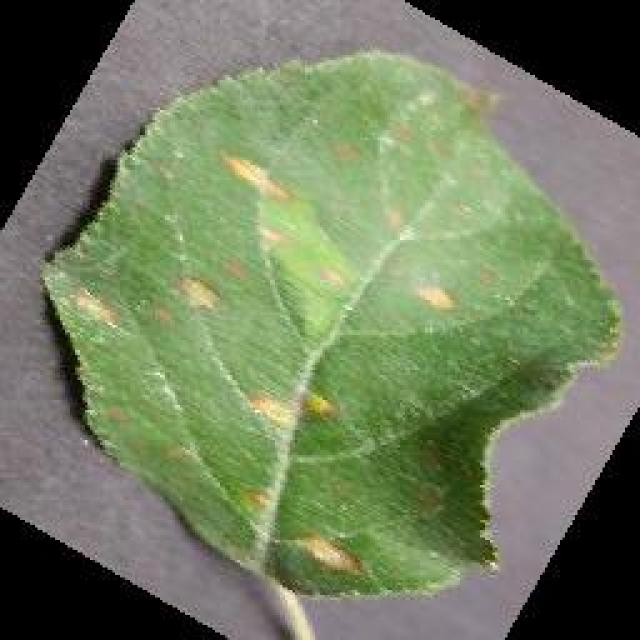apple rust disease: (37, 45, 625, 607)
